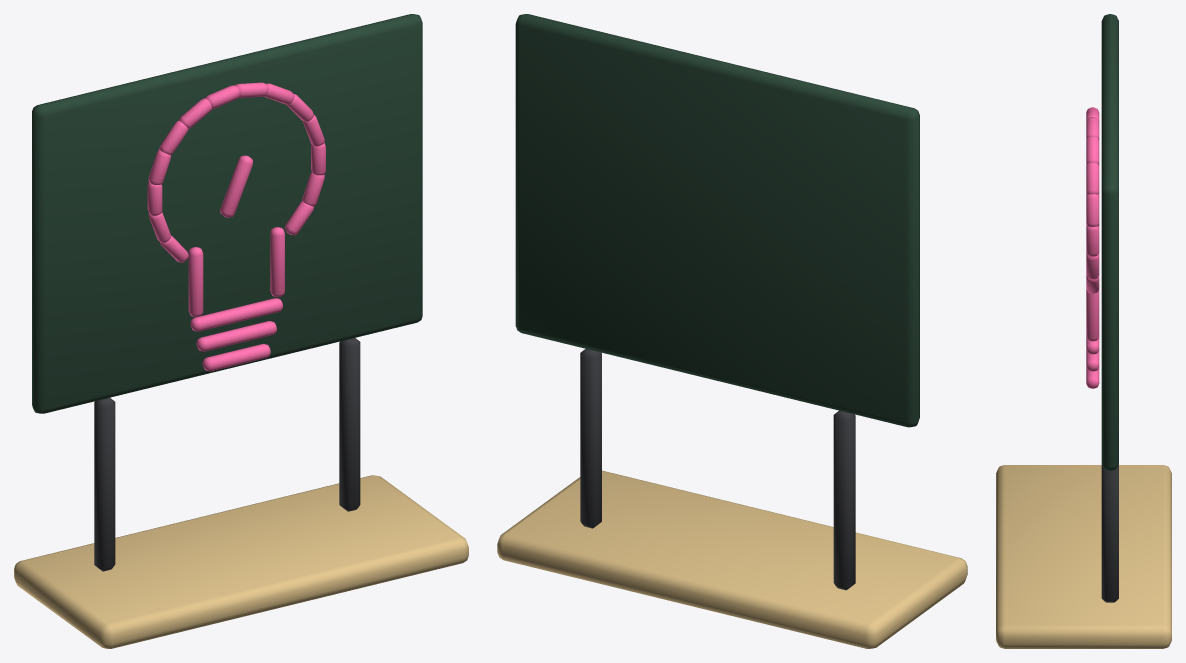
File: neon_sign.glb
3 renders of one model, left to right at view 1: azimuth 30°, elevation 25°; view 2: azimuth 150°, elevation 25°; view 3: azimuth 270°, elevation 25°, orthographic. The views are drawn at different scales.
Visible parts, largest first — view 1: neon_sign; view 2: neon_sign; view 3: neon_sign.
Part boxes in pixels (left/top/right/bottom): neon_sign: left=14, top=14, right=468, bottom=648; neon_sign: left=497, top=14, right=967, bottom=648; neon_sign: left=996, top=14, right=1171, bottom=648.
Bounding box in the file's own units: 0.95 × 1.18 × 0.4.
Materials: 1 (1 with a texture image).
